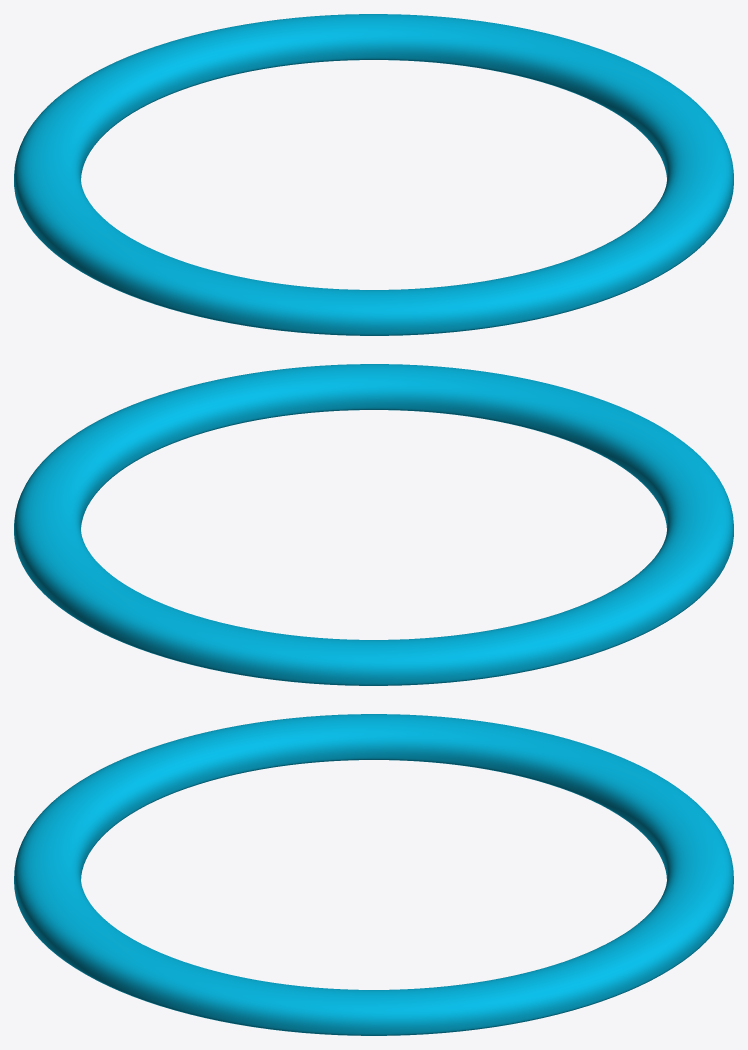
The model's file is BlueRing.fbx.
3 renders of one model, top to bottom at view 1: azimuth 30°, elevation 25°; view 2: azimuth 150°, elevation 25°; view 3: azimuth 270°, elevation 25°, orthographic.
Parts seen in each view (by area): view 1: Circle.001; view 2: Circle.001; view 3: Circle.001.
Part boxes in pixels (x1,y1,x2,y2): Circle.001: (14,14,733,335); Circle.001: (14,364,733,685); Circle.001: (14,714,733,1035).
Size of the model in its own units: 195 by 8.09 by 195.
